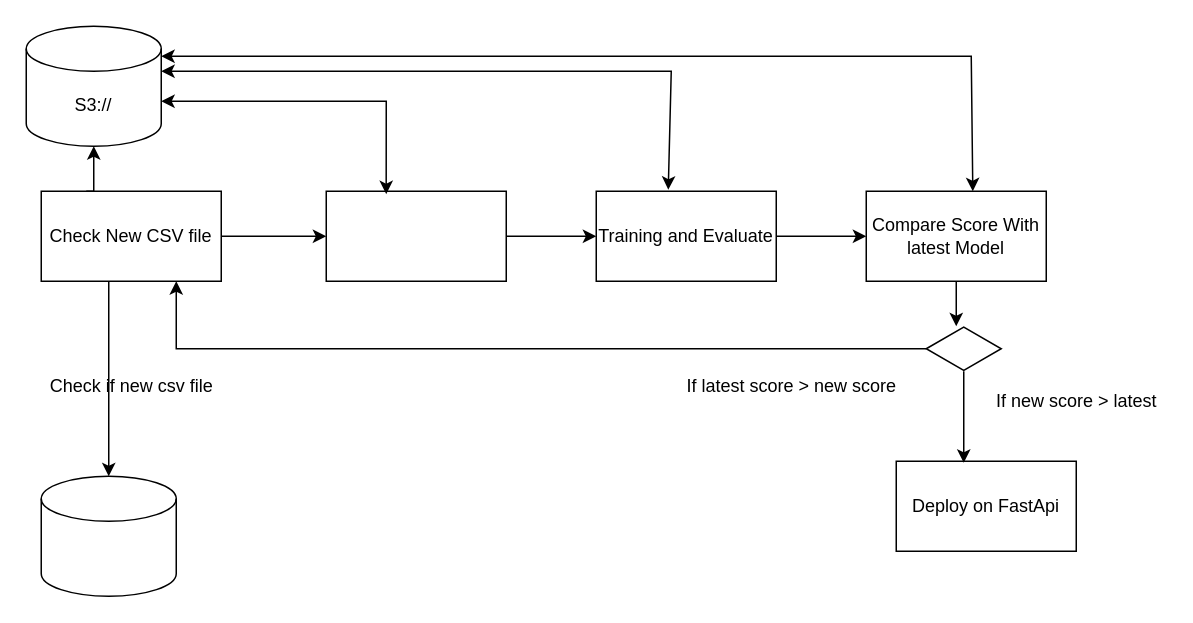
Some shapes in this 1193 by 623 pixel diagram are drawn without their labels. The centre of each missing label's shape, as x and y in pixels:
"FILE_CSV" goes at point (108, 535).
"Prepare Data" goes at point (415, 235).
